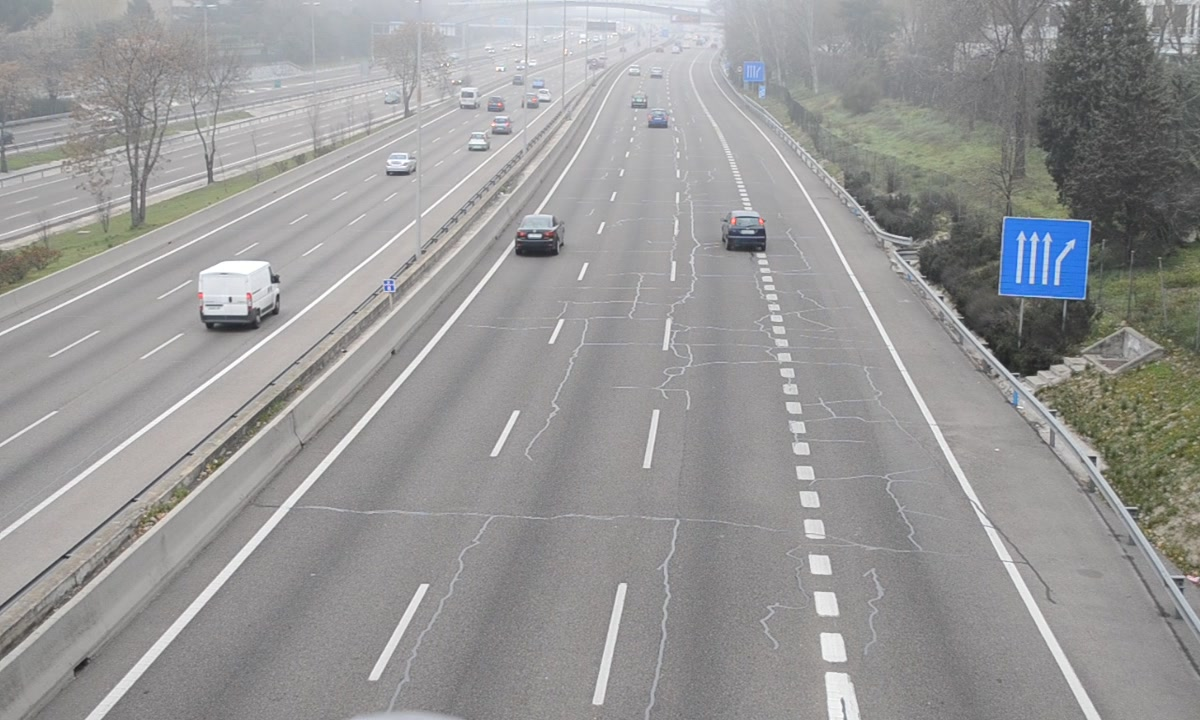car: (515, 215, 562, 254), (723, 211, 766, 248)
